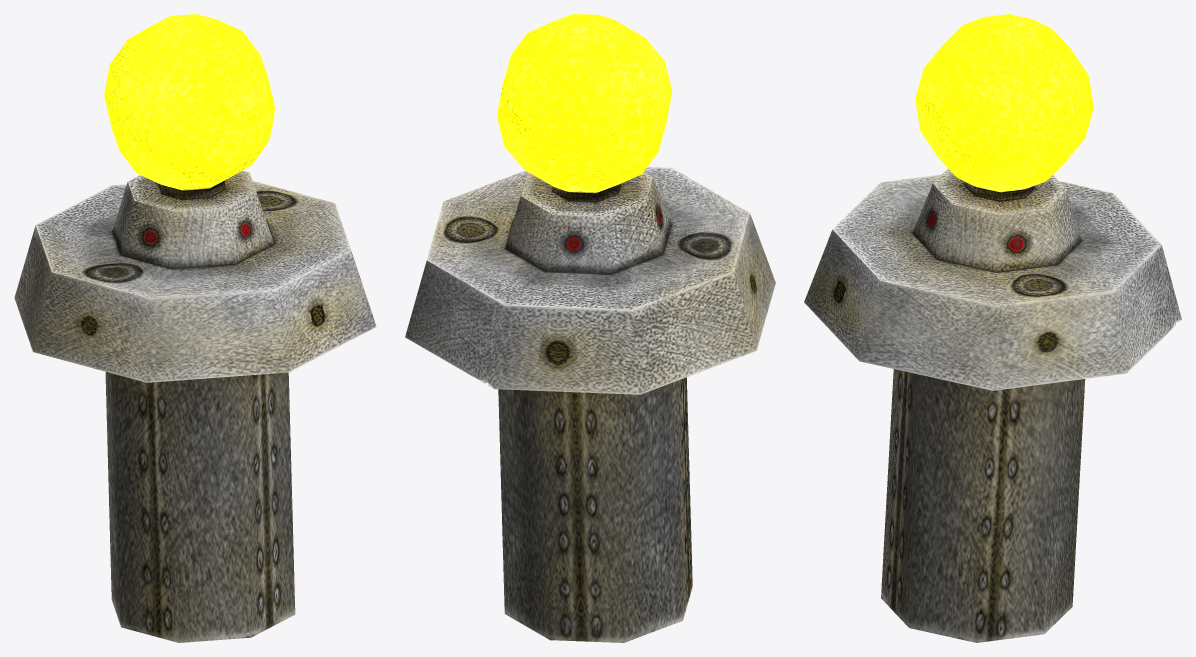
The model's file is HEAD_CHIBI_BULBfbx.fbx.
The picture shows the model from 3 angles, left to right: view 1: azimuth 30°, elevation 25°; view 2: azimuth 150°, elevation 25°; view 3: azimuth 270°, elevation 25°; orthographic projection. The views are drawn at different scales.
Parts seen in each view (by area): view 1: head_Bulb; view 2: head_Bulb; view 3: head_Bulb.
Part boxes in pixels (box(x1,y1,x2,y2)): head_Bulb: box(14, 14, 376, 642); head_Bulb: box(405, 14, 775, 642); head_Bulb: box(804, 14, 1181, 642).
Bounding box in the file's own units: 0.02 × 0.0341 × 0.02.
